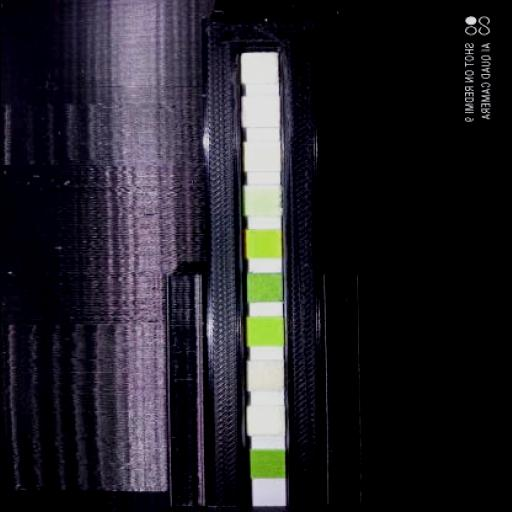Bilirubin: (247, 407, 284, 435)
Blood: (246, 274, 282, 302)
Glucose: (249, 450, 285, 478)
Ketone: (247, 362, 283, 390)
Leukocytes: (240, 54, 276, 84)
Nitrite: (242, 96, 278, 126)
Protein: (243, 186, 280, 216)
SpGravity: (247, 318, 283, 346)
Urobilinogen: (244, 142, 280, 172)
pH: (246, 230, 280, 258)
strip: (245, 52, 285, 506)
